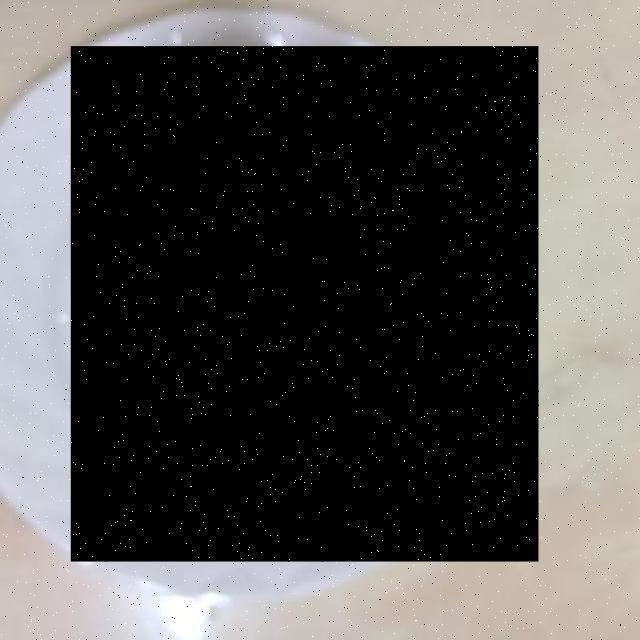Capsicum: (70, 46, 539, 562)
